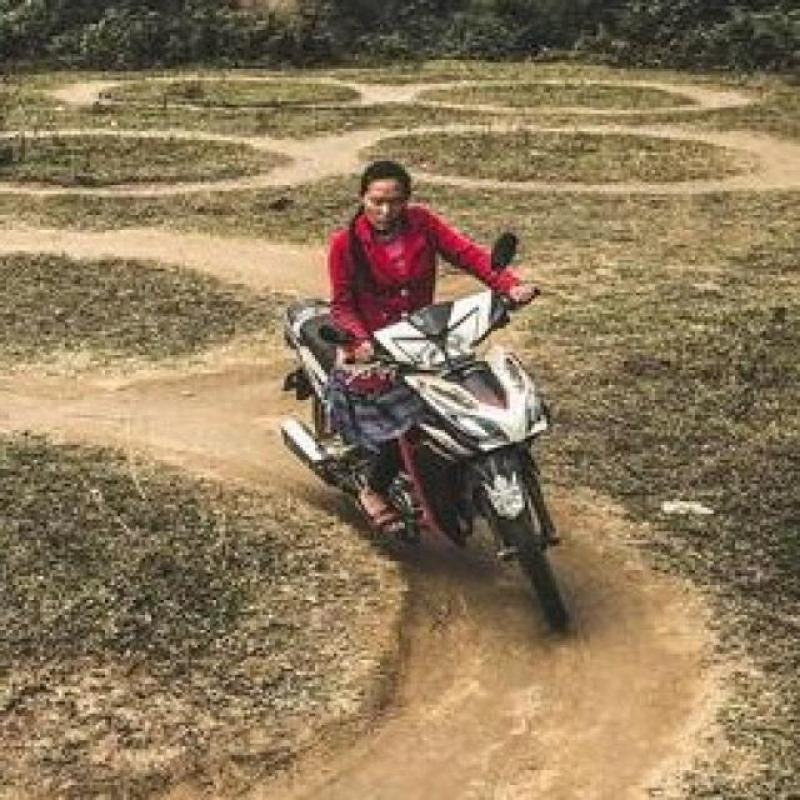nohelmet: (351, 159, 417, 240)
